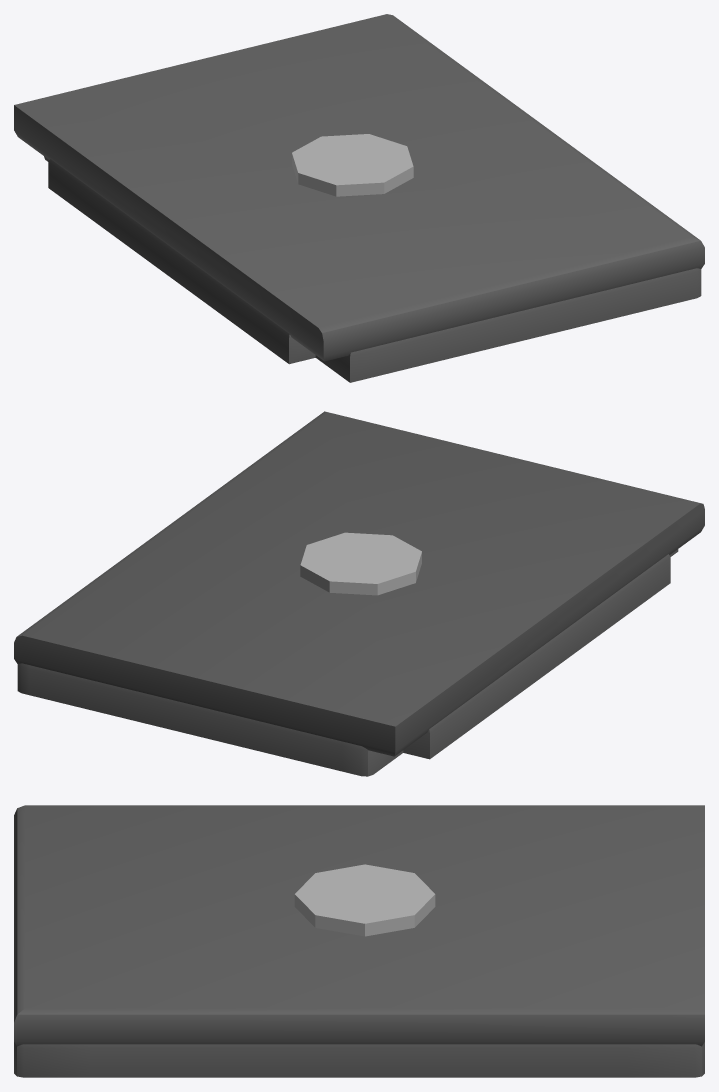
File: Laptop_01.glb
3 renders of one model, top to bottom at view 1: azimuth 30°, elevation 25°; view 2: azimuth 150°, elevation 25°; view 3: azimuth 270°, elevation 25°, orthographic. The views are drawn at different scales.
Visible parts, largest first — view 1: Mesh_Laptop_01; view 2: Mesh_Laptop_01; view 3: Mesh_Laptop_01.
Boxes of the visible parts, left/top/right/bottom form: Mesh_Laptop_01: left=14, top=14, right=704, bottom=382; Mesh_Laptop_01: left=14, top=411, right=704, bottom=776; Mesh_Laptop_01: left=14, top=805, right=704, bottom=1077.
Bounding box in the file's own units: 0.3498 × 0.0607 × 0.4915.
1 material, 1 textured.
